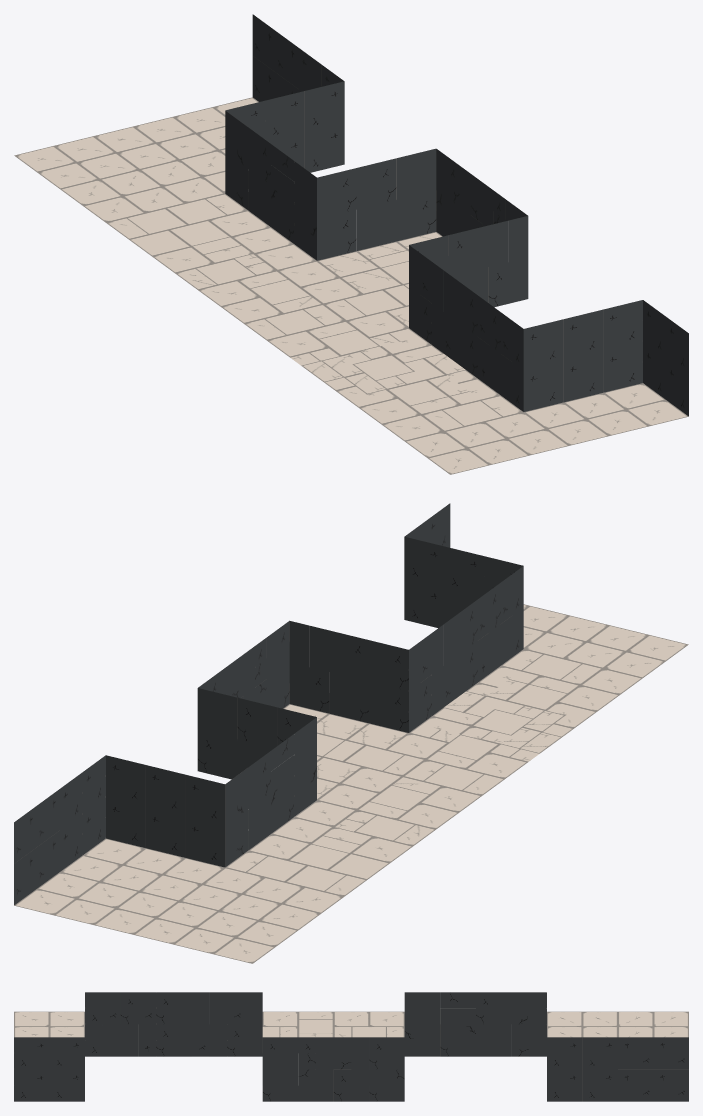
File: prison.dae
3 renders of one model, top to bottom at view 1: azimuth 30°, elevation 25°; view 2: azimuth 150°, elevation 25°; view 3: azimuth 270°, elevation 25°, orthographic. The views are drawn at different scales.
Visible parts, largest first — view 1: cells_-col; view 2: cells_-col; view 3: cells_-col.
Part boxes in pixels (x1,y1,x2,y2): cells_-col: [14, 14, 688, 474]; cells_-col: [14, 503, 688, 963]; cells_-col: [14, 992, 688, 1101].
Bounding box in the file's own units: 12 × 38 × 4.
1 material, 1 textured.
